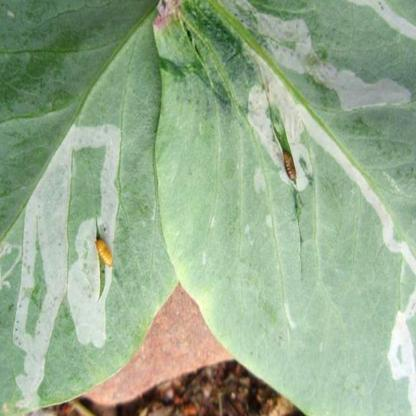whorl-maggot: (88, 230, 119, 276), (276, 142, 301, 188)
